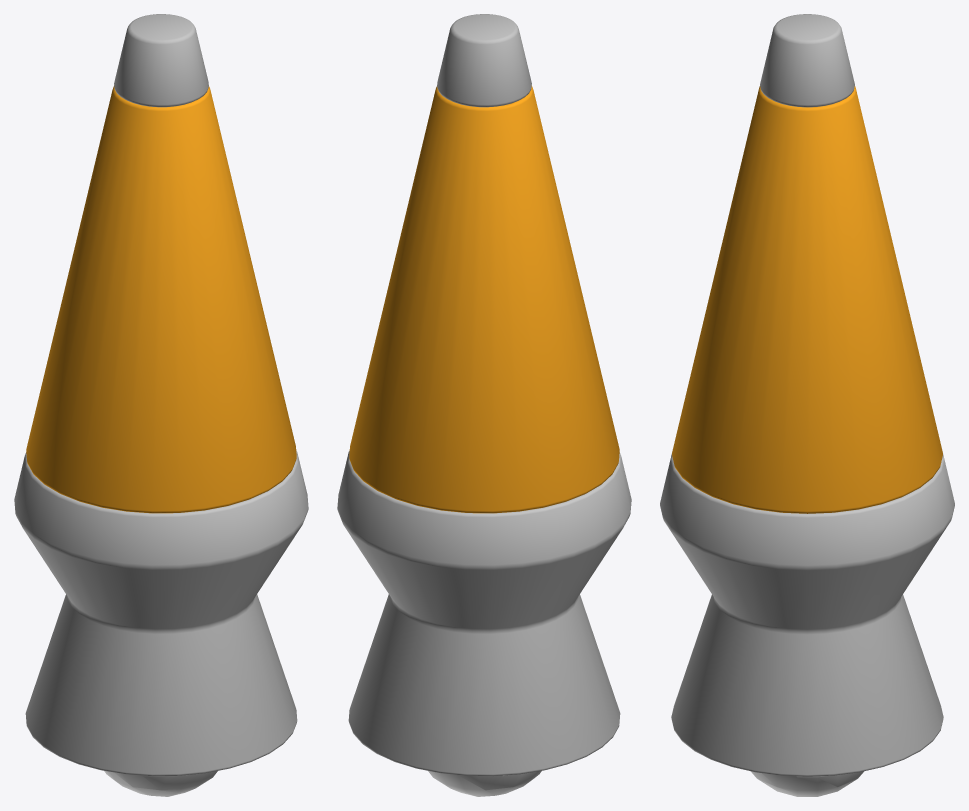
Rendered from lamp.fbx.
3 renders of one model, left to right at view 1: azimuth 30°, elevation 25°; view 2: azimuth 150°, elevation 25°; view 3: azimuth 270°, elevation 25°, orthographic.
Visible parts, largest first — view 1: glass, lamp, Mball; view 2: glass, lamp, Mball; view 3: glass, lamp, Mball.
Boxes of the visible parts, bbox=[...] form: glass: bbox=[26, 85, 296, 513]; lamp: bbox=[14, 14, 308, 776]; Mball: bbox=[104, 771, 217, 796]; glass: bbox=[349, 85, 619, 513]; lamp: bbox=[337, 14, 631, 776]; Mball: bbox=[428, 771, 541, 796]; glass: bbox=[672, 86, 942, 513]; lamp: bbox=[660, 14, 954, 776]; Mball: bbox=[751, 771, 863, 796].
Bounding box in the file's own units: 171 × 488 × 171.
